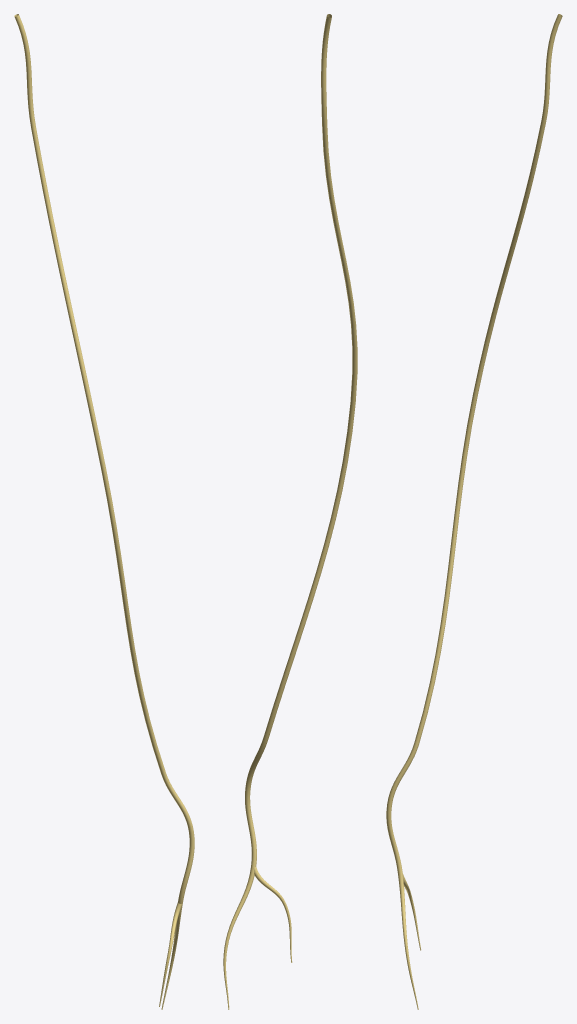
3 views of the same model, side by side, from view 1: azimuth 90°, elevation 25°; view 2: azimuth 210°, elevation 25°; view 3: azimuth 270°, elevation 25° (orthographic). The views are drawn at different scales.
Visible parts, largest first — view 1: ZA_fe6c1a6fa7ed739a; view 2: ZA_fe6c1a6fa7ed739a; view 3: ZA_fe6c1a6fa7ed739a.
Boxes of the visible parts, x1,y1,x2,y2 form: ZA_fe6c1a6fa7ed739a: (14, 14, 194, 1009); ZA_fe6c1a6fa7ed739a: (223, 14, 357, 1009); ZA_fe6c1a6fa7ed739a: (386, 14, 562, 1009).
Size of the model in its own units: 0.0212 by 0.2172 by 0.0353.
